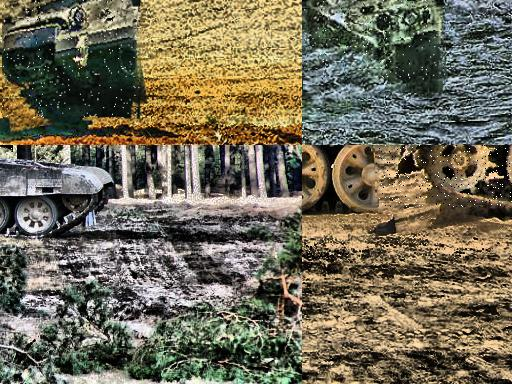tanks: (2, 1, 141, 119), (304, 1, 445, 80), (1, 160, 115, 237), (303, 146, 386, 215), (1, 146, 13, 151)
